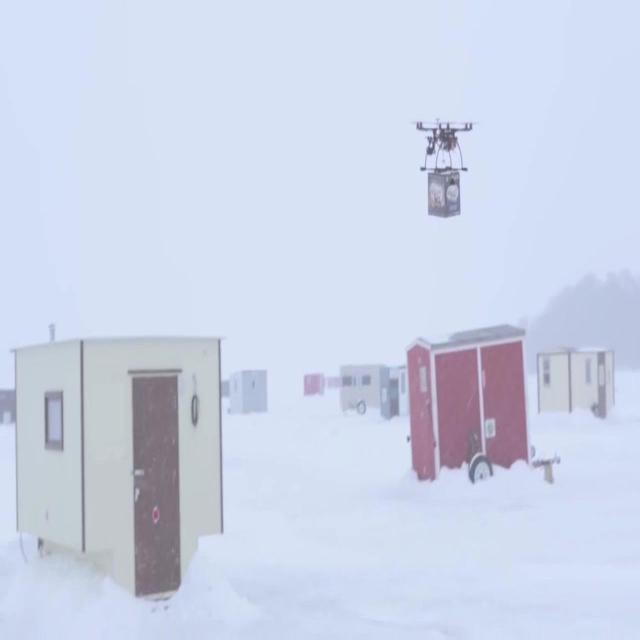drone: (410, 117, 476, 173)
